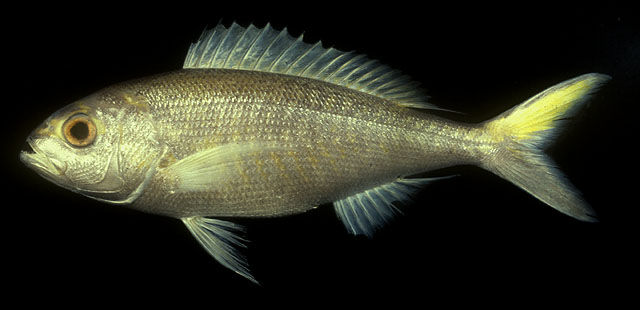fish: (18, 21, 610, 285)
